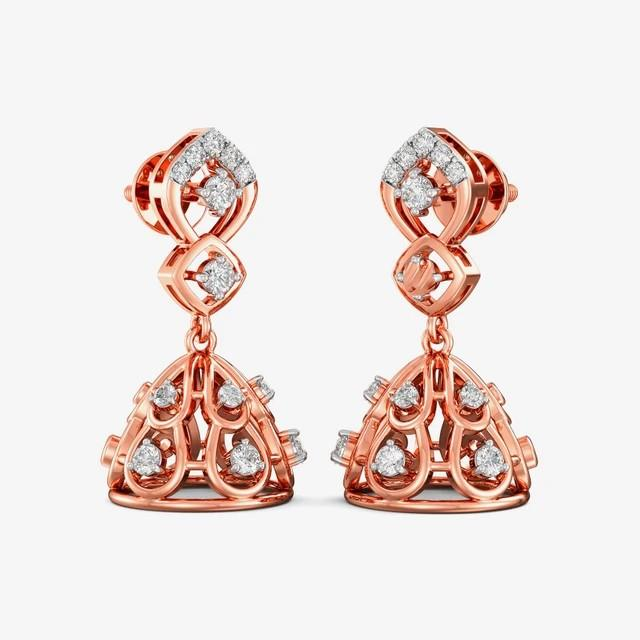missing gem: (403, 260, 436, 298)
